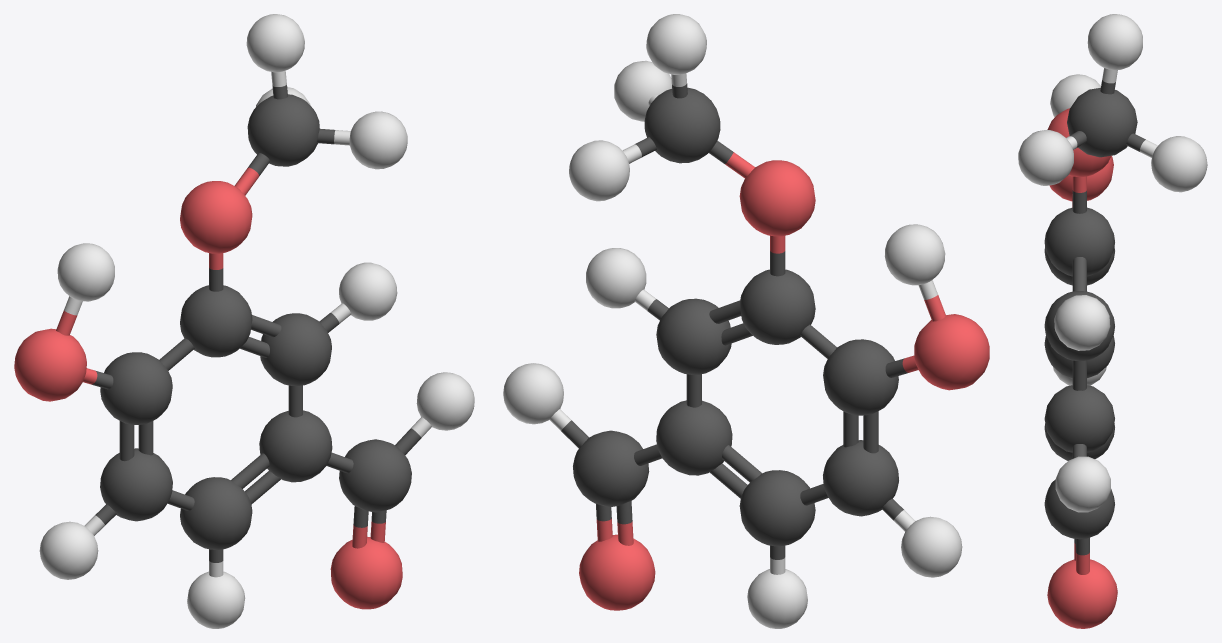
File: 09_Vainillina.fbx
3 views of the same model, side by side, from view 1: azimuth 30°, elevation 25°; view 2: azimuth 150°, elevation 25°; view 3: azimuth 270°, elevation 25° (orthographic). The views are drawn at different scales.
Parts seen in each view (by area): view 1: m_vainillina_v.002; view 2: m_vainillina_v.002; view 3: m_vainillina_v.002.
Part boxes in pixels (x1,y1,x2,y2): m_vainillina_v.002: (14, 14, 474, 628); m_vainillina_v.002: (503, 14, 989, 628); m_vainillina_v.002: (1018, 14, 1207, 628).
Size of the model in its own units: 1432 by 1792 by 535.
